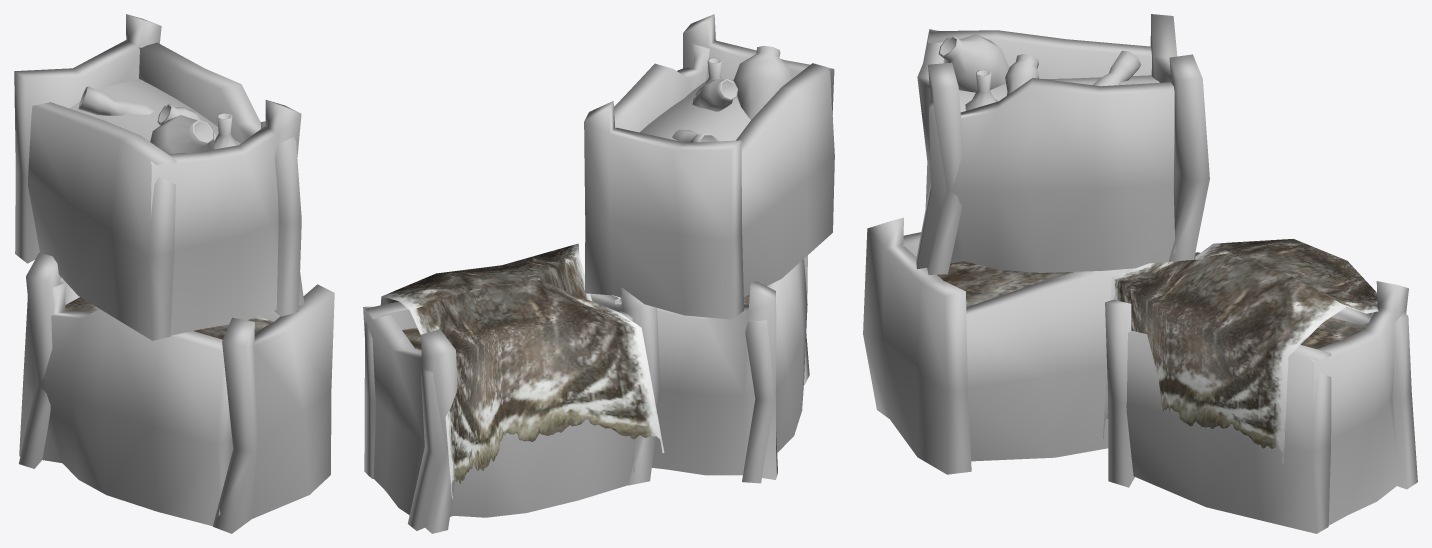
File: S_Build_Snowland060.FBX
3 renders of one model, left to right at view 1: azimuth 30°, elevation 25°; view 2: azimuth 150°, elevation 25°; view 3: azimuth 270°, elevation 25°, orthographic. The views are drawn at different scales.
Visible parts, largest first — view 1: S_Build_Snowland060; view 2: S_Build_Snowland060; view 3: S_Build_Snowland060.
Boxes of the visible parts, x1,y1,x2,y2 form: S_Build_Snowland060: (14, 14, 334, 533); S_Build_Snowland060: (363, 14, 834, 533); S_Build_Snowland060: (863, 14, 1417, 533).
Bounding box in the file's own units: 165 × 232 × 177.
